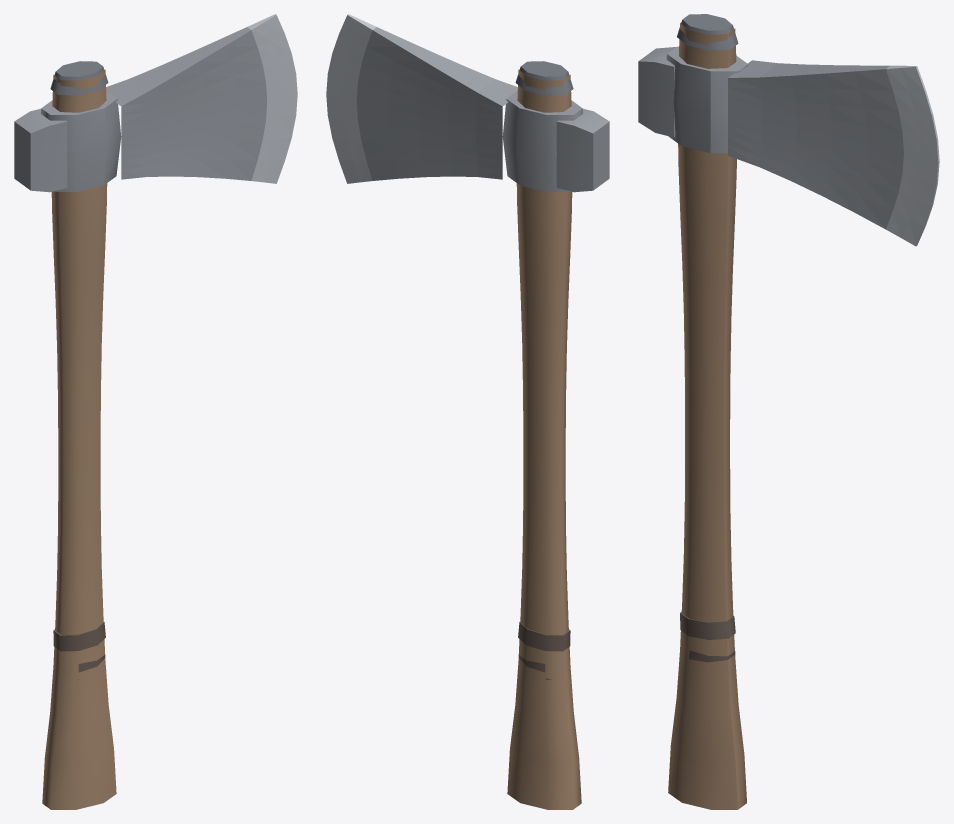
File: axe_felling_iron.gltf
3 renders of one model, left to right at view 1: azimuth 30°, elevation 25°; view 2: azimuth 150°, elevation 25°; view 3: azimuth 330°, elevation 25°, orthographic. The views are drawn at different scales.
Visible parts, largest first — view 1: Wooden_Haft, Axe_Main_Blade, Axe_Eye_Socket, Axe_Back_Poll, Top_Wedge_Hardware, Leather_Grip_Wraps; view 2: Wooden_Haft, Axe_Main_Blade, Axe_Eye_Socket, Axe_Back_Poll, Top_Wedge_Hardware, Leather_Grip_Wraps; view 3: Wooden_Haft, Axe_Main_Blade, Axe_Eye_Socket, Axe_Back_Poll, Top_Wedge_Hardware, Leather_Grip_Wraps.
Part boxes in pixels (x1,y1,x2,y2): Wooden_Haft: [42, 69, 116, 809]; Axe_Main_Blade: [106, 14, 297, 183]; Axe_Eye_Socket: [41, 92, 121, 191]; Axe_Back_Poll: [14, 108, 67, 192]; Top_Wedge_Hardware: [50, 61, 108, 95]; Leather_Grip_Wraps: [53, 622, 105, 680]; Wooden_Haft: [507, 69, 581, 809]; Axe_Main_Blade: [326, 14, 517, 183]; Axe_Eye_Socket: [502, 92, 582, 191]; Axe_Back_Poll: [556, 108, 609, 192]; Top_Wedge_Hardware: [515, 61, 573, 95]; Leather_Grip_Wraps: [518, 622, 570, 680]; Wooden_Haft: [668, 23, 746, 809]; Axe_Main_Blade: [728, 60, 939, 246]; Axe_Eye_Socket: [666, 46, 748, 153]; Axe_Back_Poll: [638, 47, 675, 137]; Top_Wedge_Hardware: [677, 14, 738, 50]; Leather_Grip_Wraps: [680, 612, 735, 666].
Size of the model in its own units: 0.6126 by 1.57 by 0.0945.
